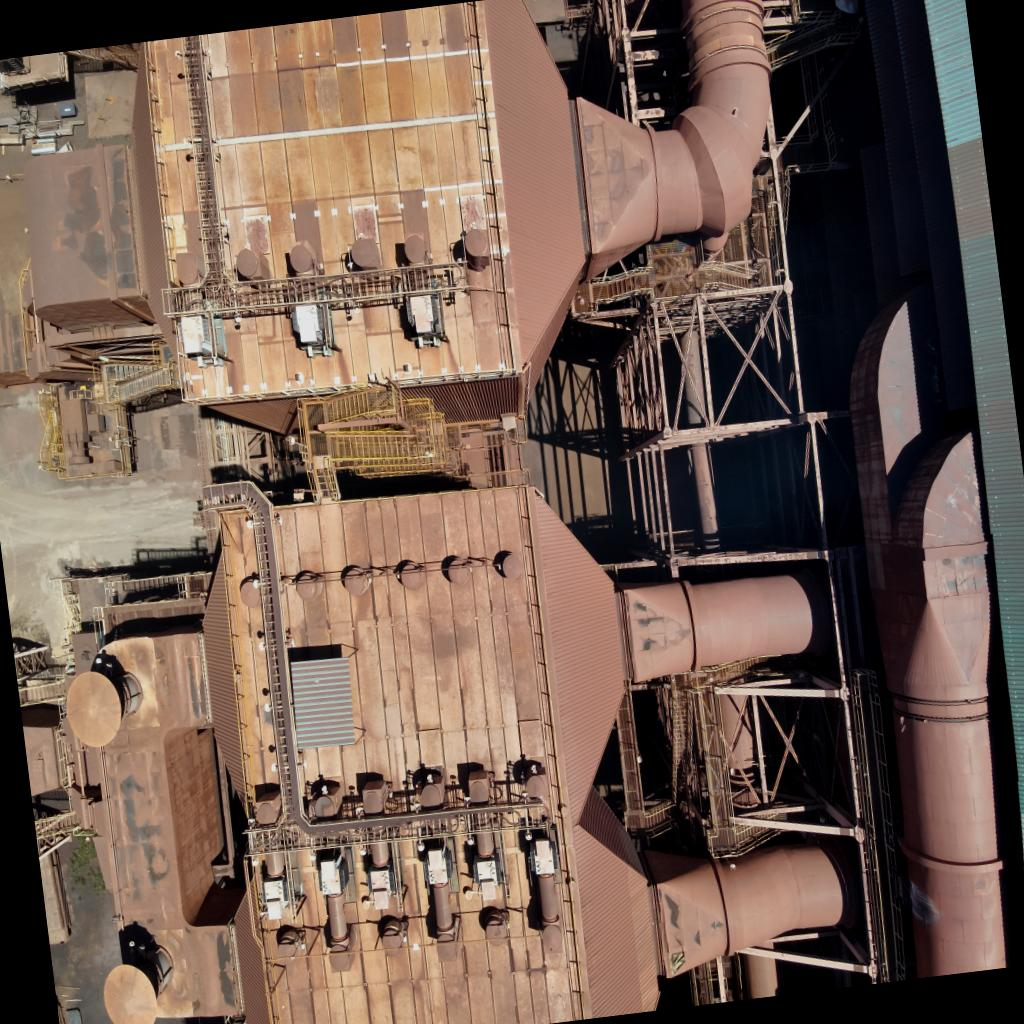Failures: (668, 946, 688, 976)
